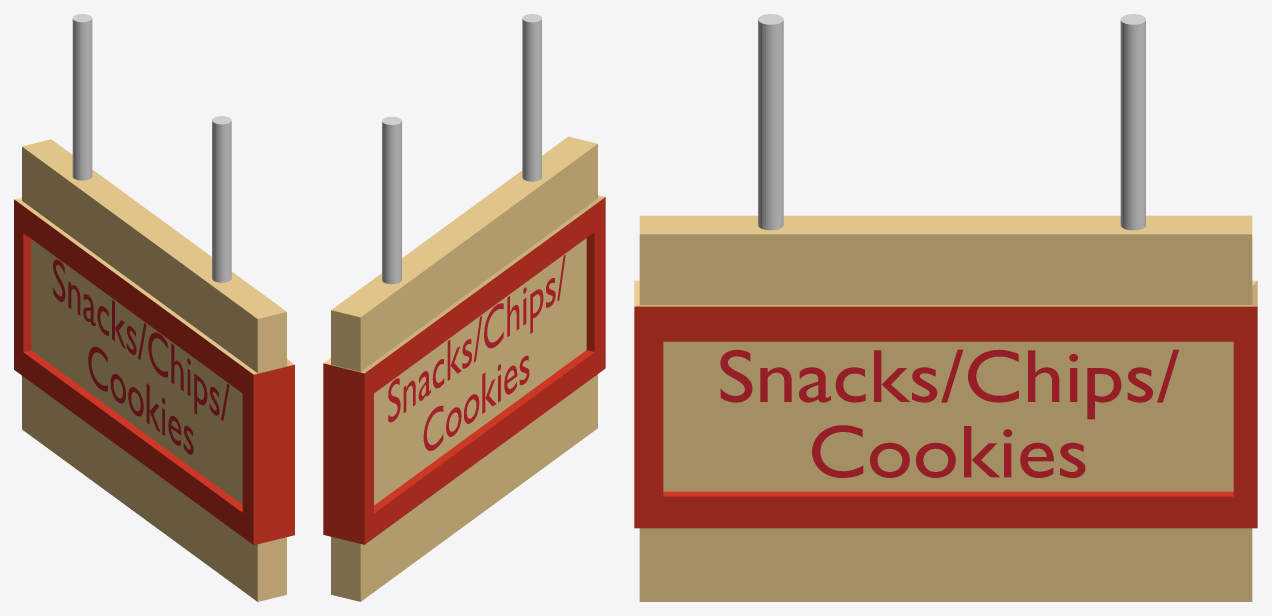
Rendered from cookiesSign.fbx.
3 views of the same model, side by side, from view 1: azimuth 30°, elevation 25°; view 2: azimuth 150°, elevation 25°; view 3: azimuth 270°, elevation 25° (orthographic). The views are drawn at different scales.
Parts seen in each view (by area): view 1: baseSign, BaseText.001, Cylinder.001, Cylinder.000; view 2: baseSign, BaseText.001, Cylinder.001, Cylinder.000; view 3: baseSign, BaseText.000, Cylinder.001, Cylinder.000.
Part boxes in pixels (x1,y1,x2,y2): baseSign: [14, 139, 294, 601]; BaseText.001: [53, 259, 229, 454]; Cylinder.001: [72, 14, 92, 180]; Cylinder.000: [212, 116, 231, 282]; baseSign: [323, 136, 605, 601]; BaseText.001: [388, 255, 565, 450]; Cylinder.001: [382, 116, 401, 284]; Cylinder.000: [522, 14, 541, 181]; baseSign: [634, 215, 1257, 601]; BaseText.000: [720, 349, 1178, 477]; Cylinder.001: [1120, 14, 1145, 230]; Cylinder.000: [758, 14, 783, 230].
Bounding box in the file's own units: 42.35 × 434 × 427.
